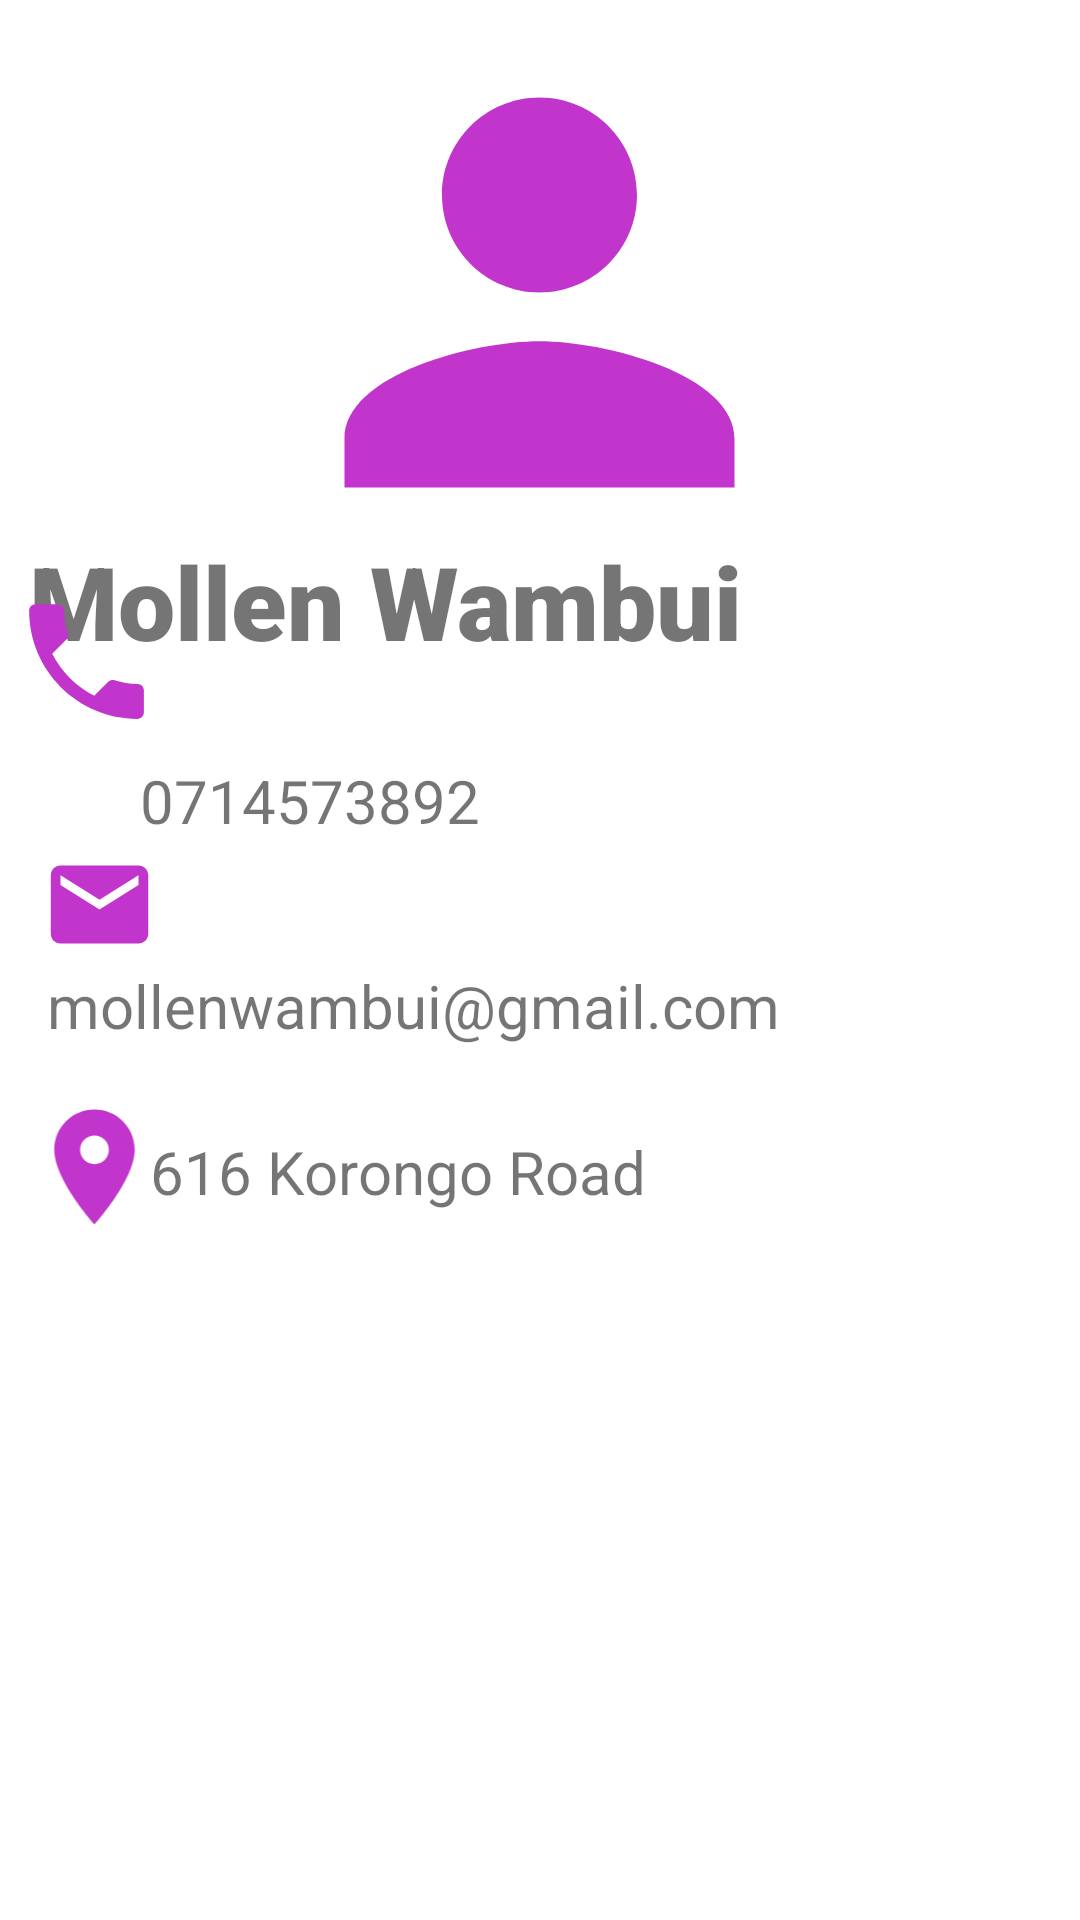

Point at icon controls on the screen. Image size 1080×1920, points as [x,y].
email: [99,904]
